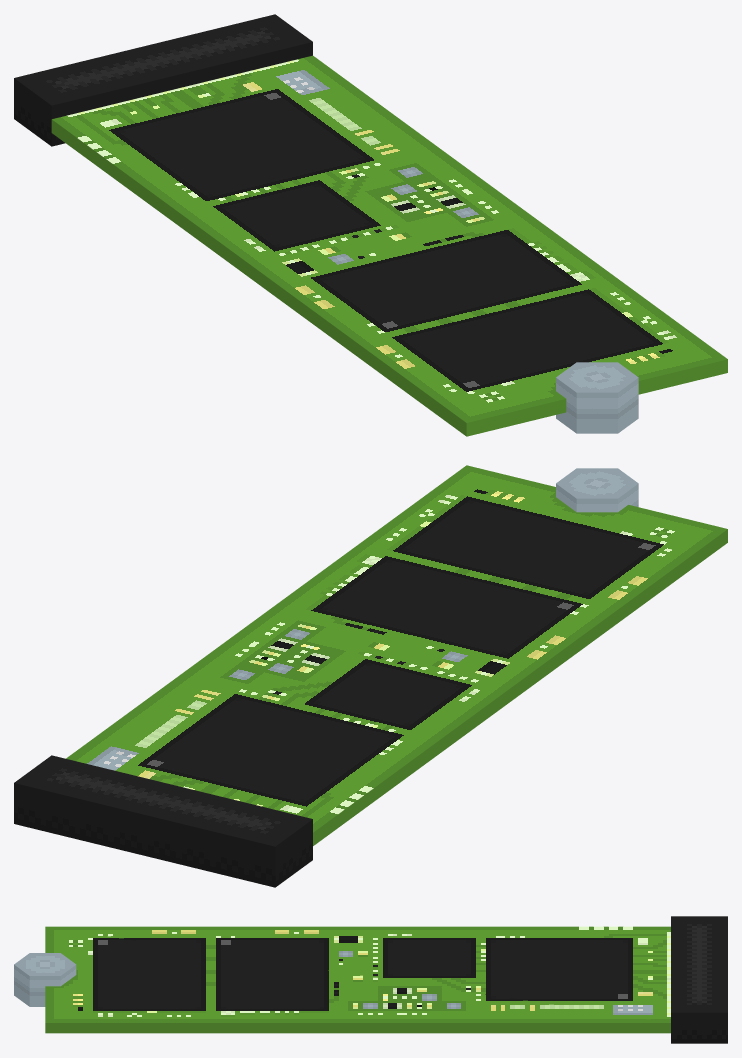
Rendered from ssd.glb.
3 renders of one model, top to bottom at view 1: azimuth 30°, elevation 25°; view 2: azimuth 150°, elevation 25°; view 3: azimuth 270°, elevation 25°, orthographic. The views are drawn at different scales.
Parts seen in each view (by area): view 1: Cube; view 2: Cube; view 3: Cube.
Boxes of the visible parts, x1,y1,x2,y2 form: Cube: (14,14,727,436); Cube: (14,465,727,887); Cube: (14,916,727,1043).
Bounding box in the file's own units: 2 × 0.3 × 6.27.
1 material, 1 textured.
